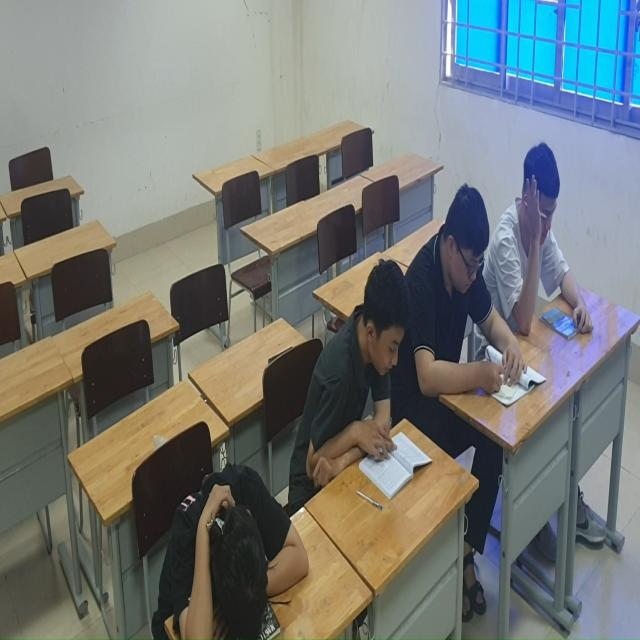raise_hand: (499, 142, 599, 342)
read: (288, 254, 421, 500), (417, 184, 529, 431)
sleep: (147, 451, 311, 637)
